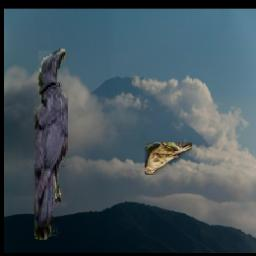Crow: (34, 49, 68, 240)
Sparrow: (145, 142, 192, 175)
